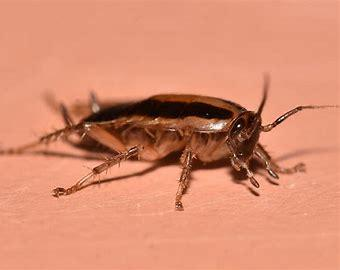cockroach: (5, 55, 329, 203)
